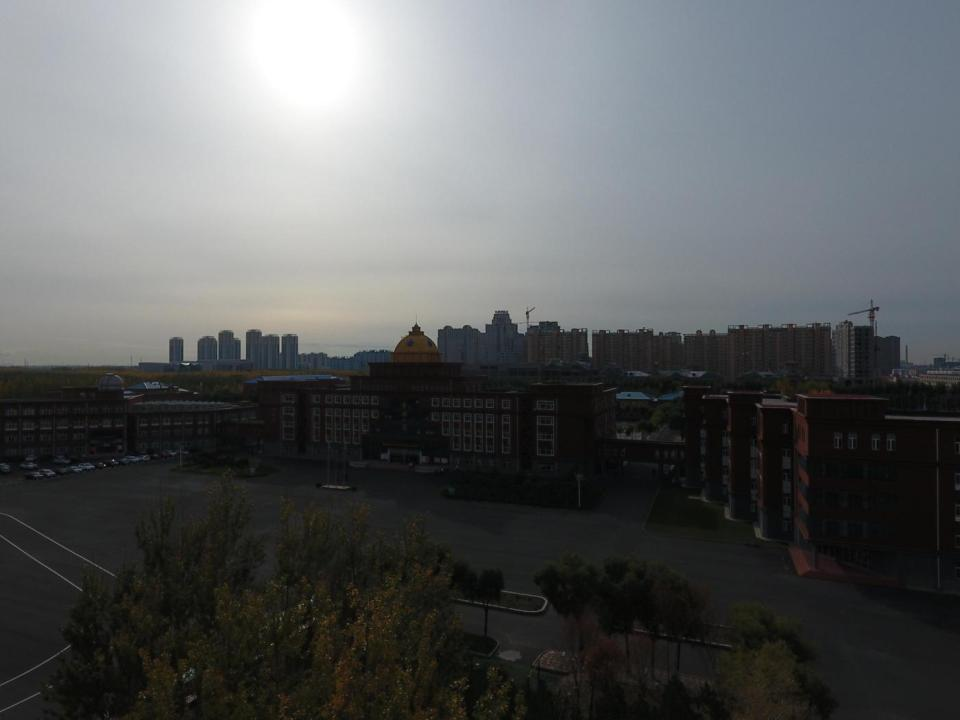car: (39, 468, 56, 478), (24, 472, 44, 480), (20, 462, 38, 470), (53, 457, 70, 465), (53, 468, 69, 476), (125, 456, 140, 464), (78, 463, 94, 470), (104, 459, 119, 466), (93, 462, 106, 470), (164, 450, 178, 457), (25, 454, 39, 461), (69, 466, 82, 473), (137, 455, 150, 462), (175, 449, 190, 455), (68, 456, 84, 461), (1, 466, 10, 474), (117, 459, 128, 465), (158, 452, 168, 458), (151, 454, 160, 459), (1, 464, 10, 468)
